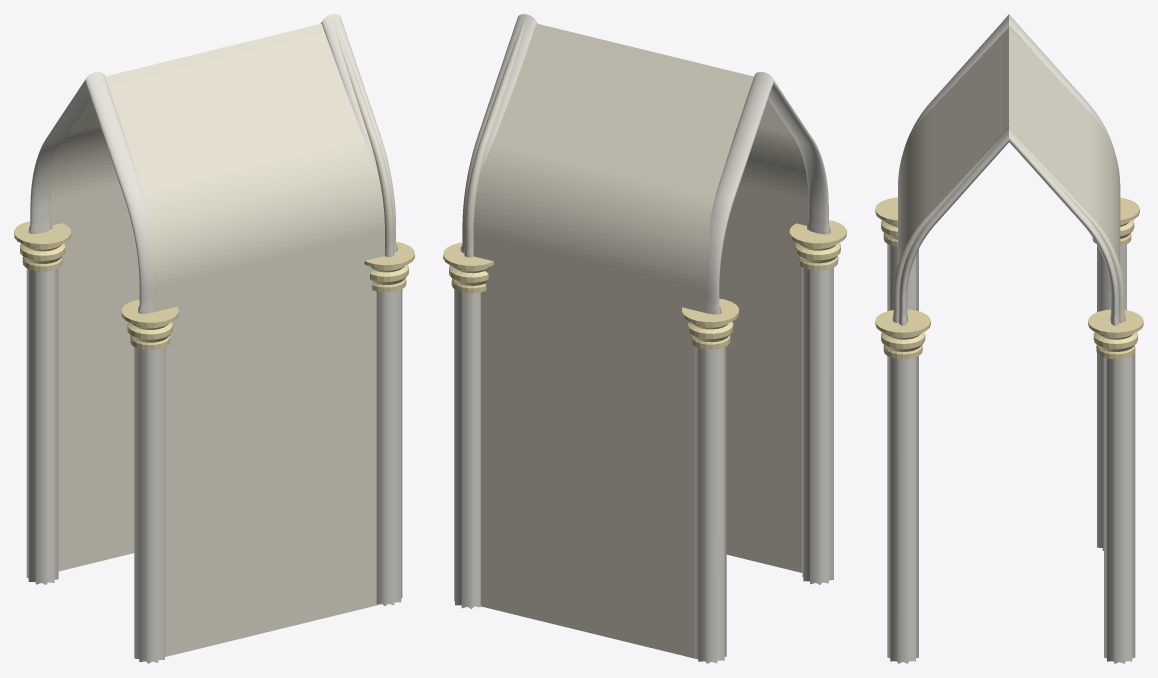
File: ArchHall.fbx
3 views of the same model, side by side, from view 1: azimuth 30°, elevation 25°; view 2: azimuth 150°, elevation 25°; view 3: azimuth 270°, elevation 25° (orthographic). The views are drawn at different scales.
Parts seen in each view (by area): view 1: pCylinder11, Column2, Column, Column1, pCylinder13, pCylinder14, Crown2, Crown, Crown1; view 2: pCylinder11, Column2, Column, Column3, pCylinder13, pCylinder14, Crown, Crown2, Crown3; view 3: pCylinder11, Column3, Column1, pCylinder14, Column2, pCylinder13, Crown3, Crown1, Column, Crown, Crown2.
Part boxes in pixels (x1=…): pCylinder11: x1=50, y1=14, x2=394, y2=656; Column2: x1=26, y1=268, x2=58, y2=584; Column: x1=134, y1=347, x2=165, y2=663; Column1: x1=376, y1=289, x2=402, y2=606; pCylinder13: x1=28, y1=71, x2=152, y2=313; pCylinder14: x1=321, y1=14, x2=397, y2=252; Crown2: x1=14, y1=221, x2=71, y2=271; Crown: x1=121, y1=299, x2=178, y2=349; Crown1: x1=364, y1=241, x2=414, y2=292; pCylinder11: x1=464, y1=14, x2=808, y2=659; Column2: x1=694, y1=346, x2=726, y2=663; Column: x1=802, y1=267, x2=833, y2=584; Column3: x1=454, y1=289, x2=480, y2=608; pCylinder13: x1=706, y1=72, x2=830, y2=314; pCylinder14: x1=460, y1=14, x2=537, y2=253; Crown: x1=789, y1=220, x2=846, y2=270; Crown2: x1=682, y1=298, x2=738, y2=349; Crown3: x1=443, y1=242, x2=493, y2=293; pCylinder11: x1=892, y1=27, x2=1125, y2=322; Column3: x1=1104, y1=352, x2=1135, y2=663; Column1: x1=887, y1=356, x2=918, y2=663; pCylinder14: x1=899, y1=126, x2=1119, y2=325; Column2: x1=1097, y1=244, x2=1126, y2=550; pCylinder13: x1=904, y1=14, x2=1114, y2=149; Crown3: x1=1088, y1=309, x2=1143, y2=359; Crown1: x1=875, y1=309, x2=930, y2=359; Column: x1=887, y1=244, x2=918, y2=310; Crown: x1=875, y1=197, x2=897, y2=246; Crown2: x1=1092, y1=197, x2=1139, y2=246.
Size of the model in its own units: 14.23 by 25.98 by 11.91.
